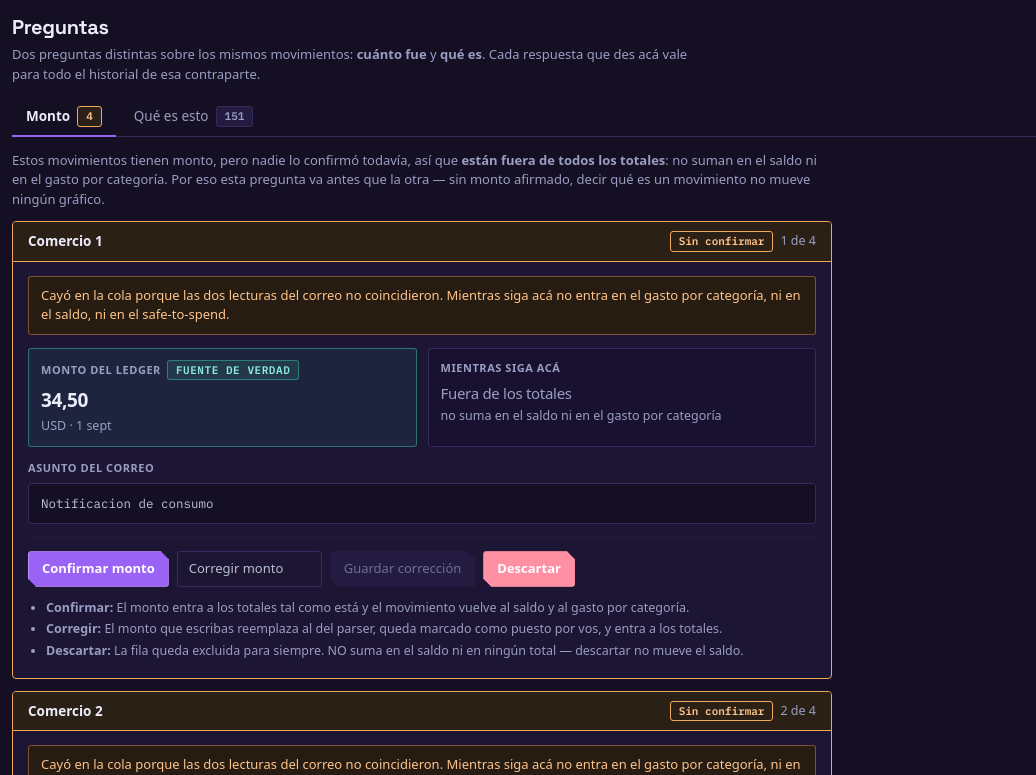
Scenario: pestaña 'Monto' — las 4 filas, sobre las rutas que ya existen › R13: changed:false no se festeja — se dice que ya estaba resuelto y se refresca
Click the button with test id "review-confirmar". click: x=98, y=569
box: [28,551,169,587]
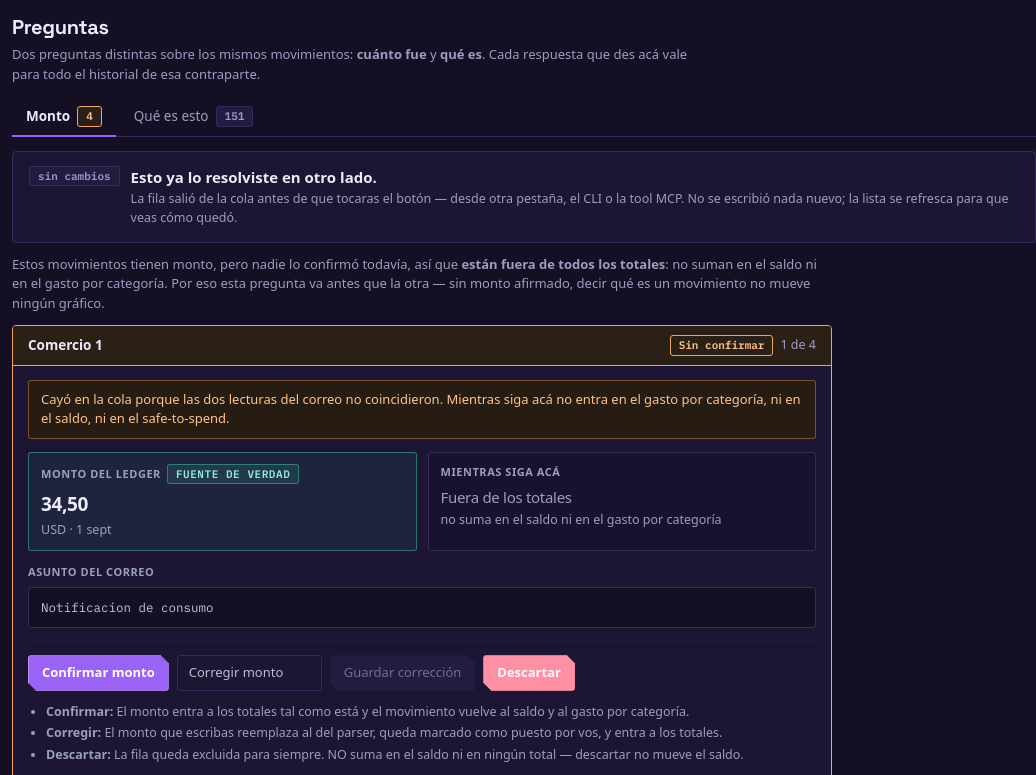
Expected: the element with test id "efecto" shows "ya lo resolviste en otro lado", [131,166,377,186]
